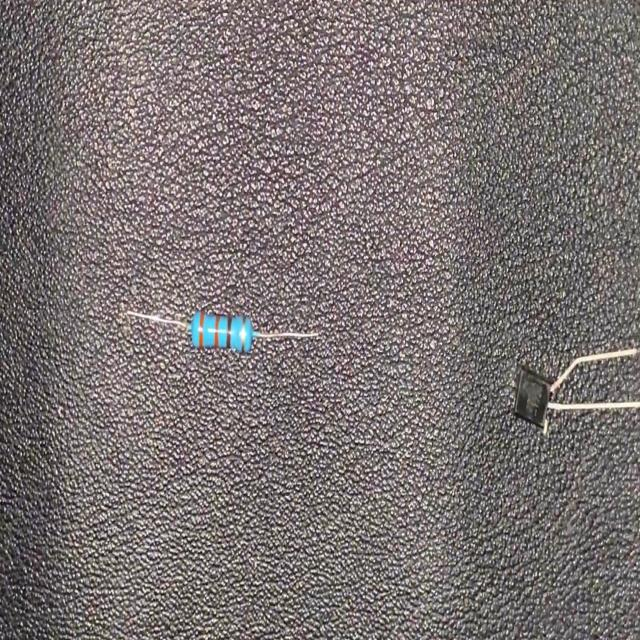missing-leg: (515, 348, 640, 434)
resistor: (124, 301, 320, 358)
